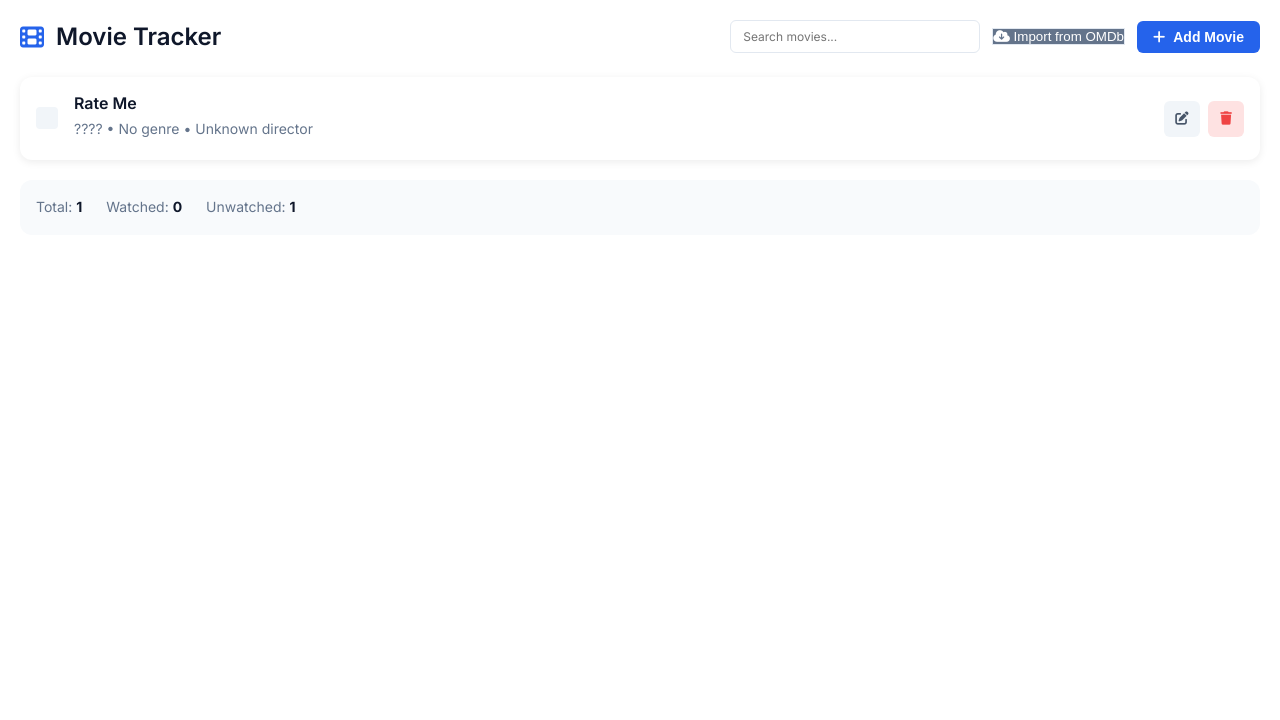
MoviesSection Component › Rating System › updates rating when clicking rating button
What coordinates should you click on to do the following:
click the button titled "Edit"
I would click on:
 (1182, 119)
Its box is [1164,101,1200,137].
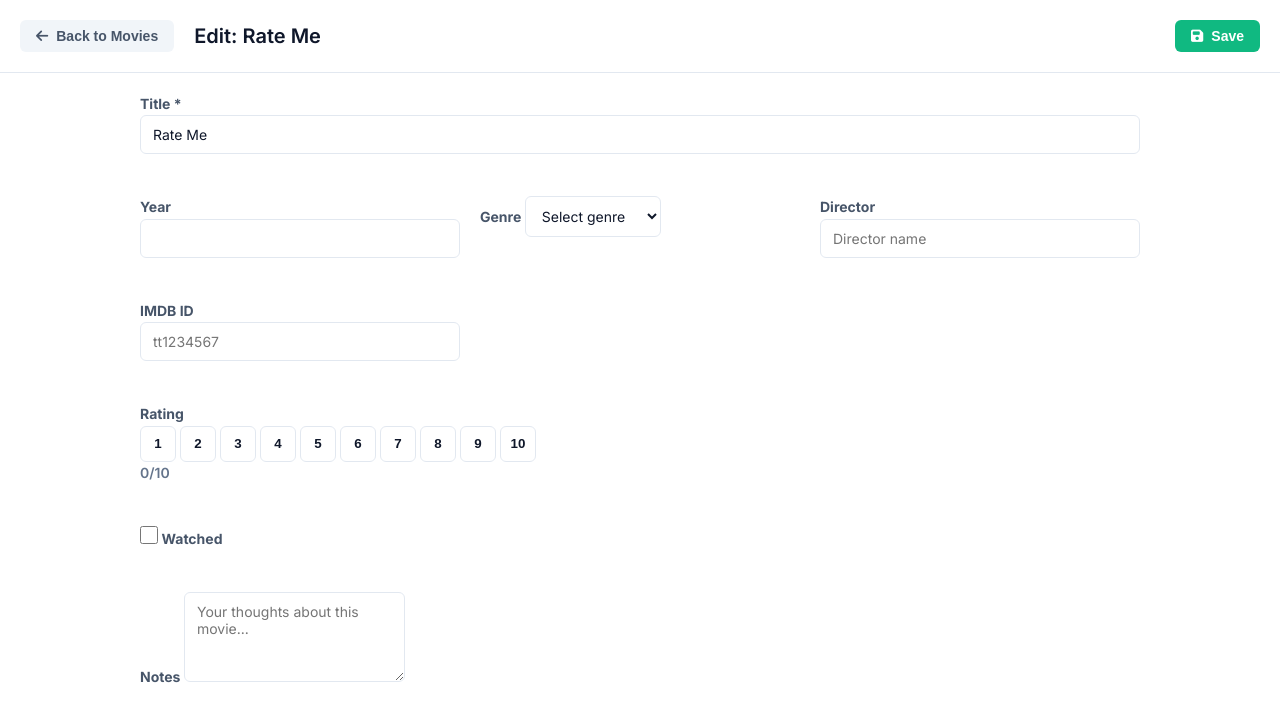
What coordinates should you click on to do the following:
click the button "7"
I would click on:
 (398, 444)
Its box is [380,426,416,462].
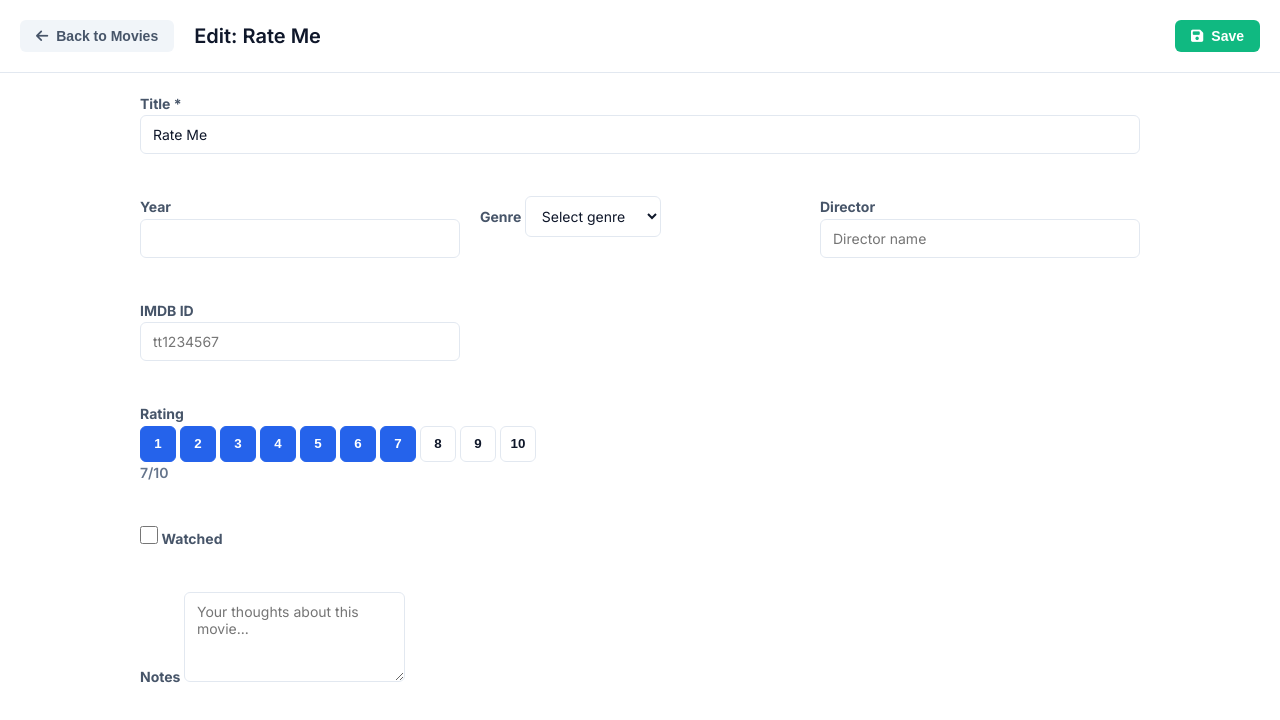
What coordinates should you click on to do the following:
click the button "Save"
I would click on:
 (1218, 36)
Its box is [1175,20,1260,52].
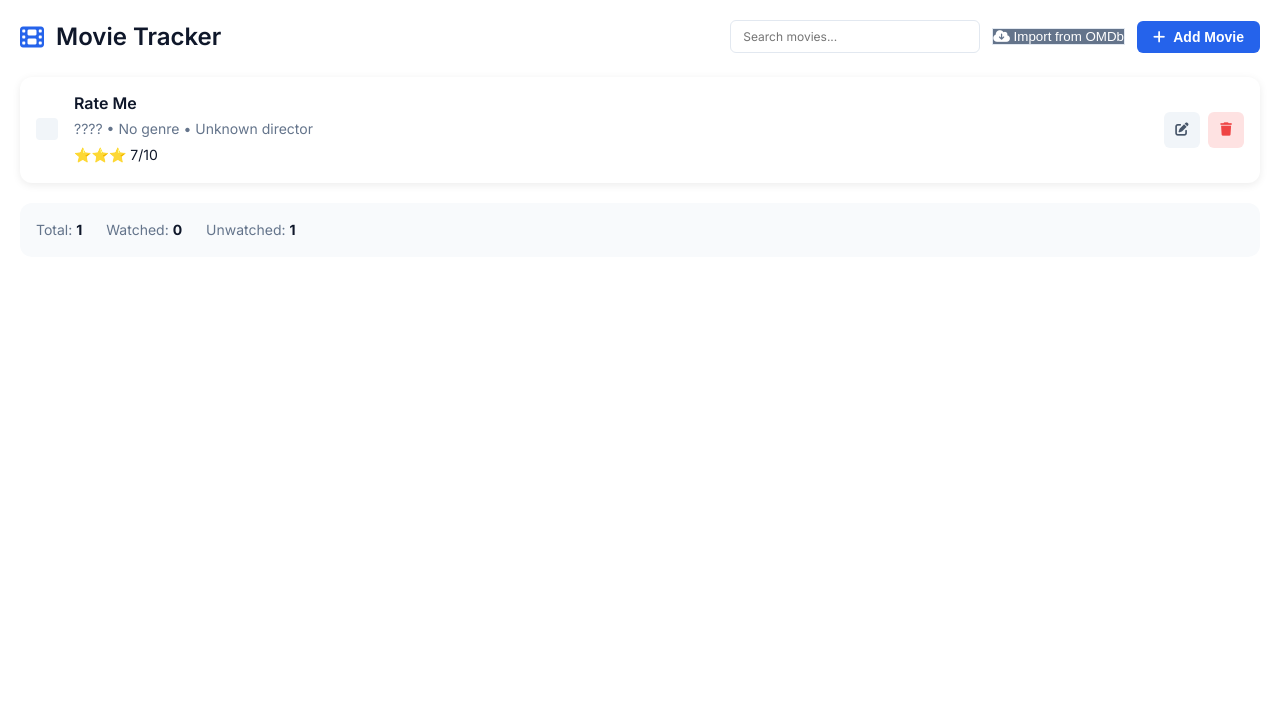
Check: the text "Rate Me" shows "7/10", box [74,146,158,163]
